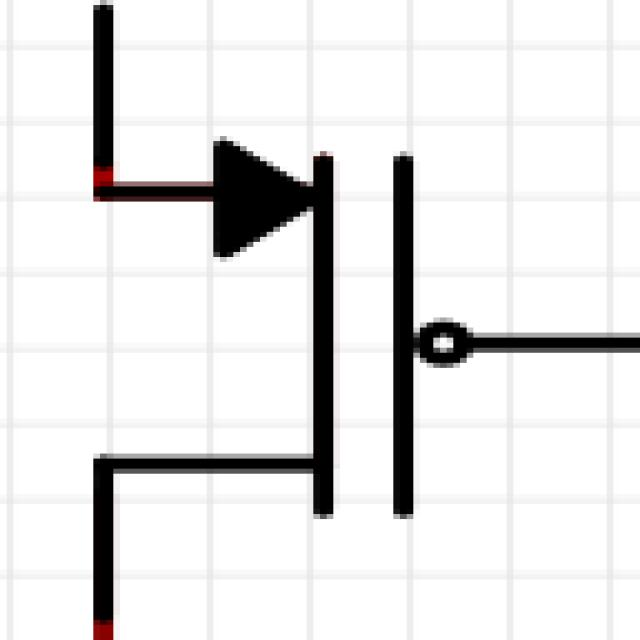pmos: (16, 51, 640, 626)
